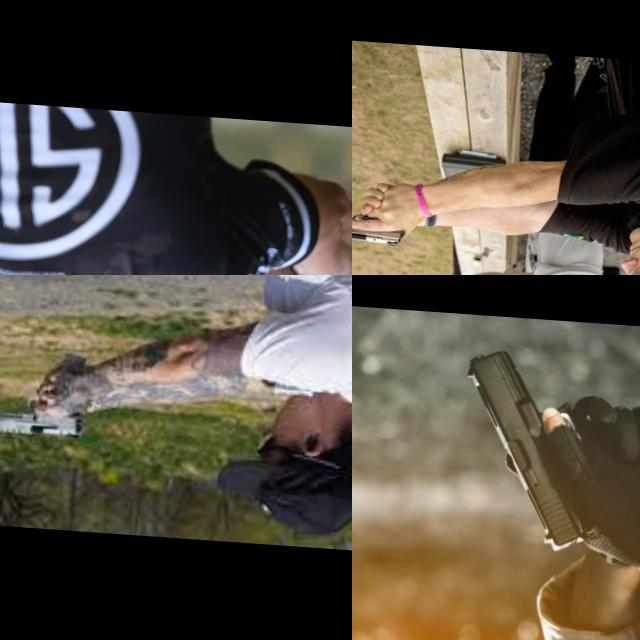handgun: (449, 342, 598, 554), (0, 388, 88, 442), (352, 205, 408, 247)
